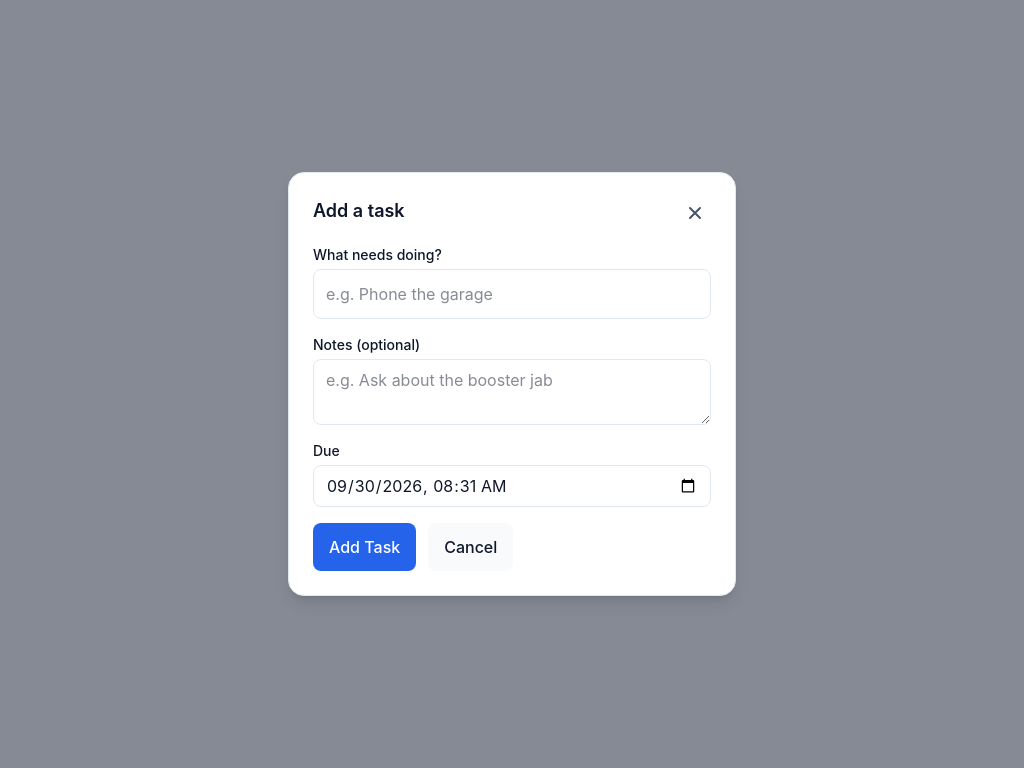
TaskManager › reports a save failure without silently losing what was typed
Expected: the dialog "Add a task" is shown, x1=288 y1=172 x2=736 y2=596
In the field labelled "What needs doing?": (512, 294) x1=313 y1=269 x2=711 y2=319, type "Phone the garage"
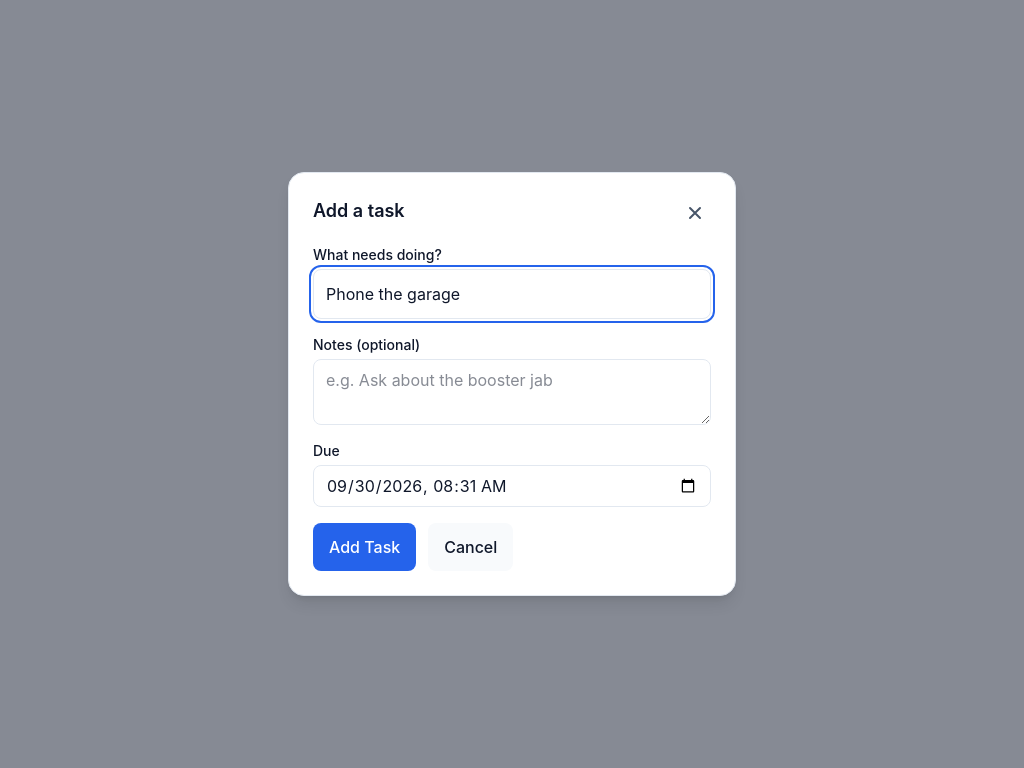
Click the button "Add Task": (365, 547) x1=313 y1=523 x2=416 y2=571
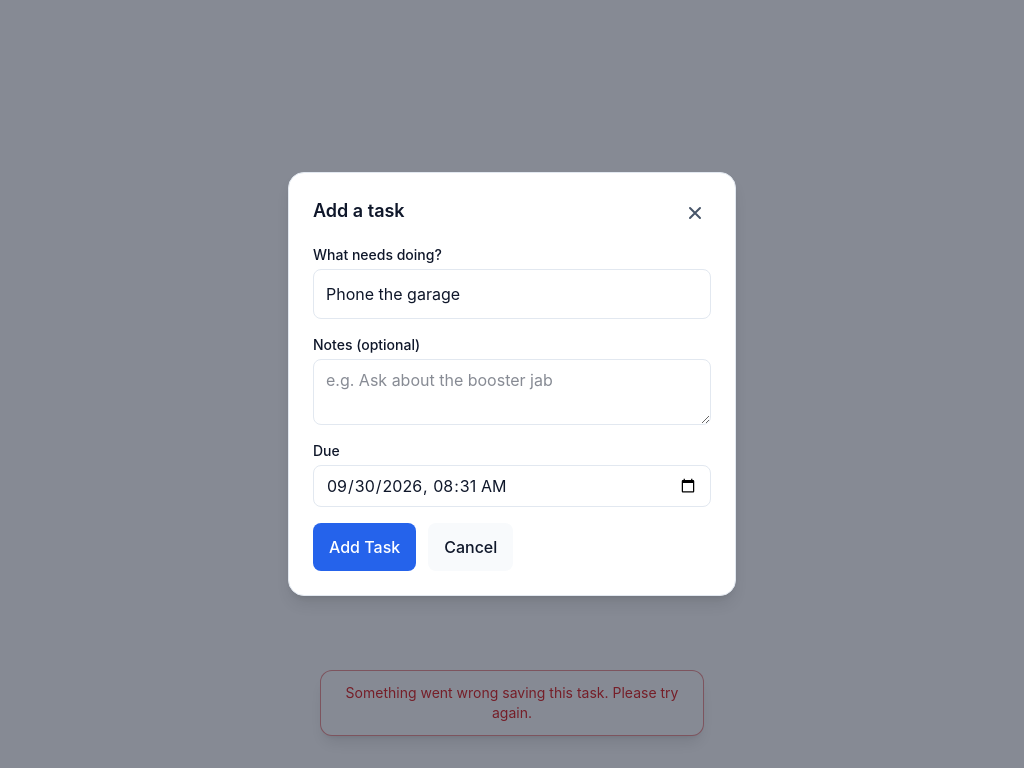
Expected: the dialog "Add a task" is shown, x1=288 y1=172 x2=736 y2=596
Now the message shows "Something went wrong saving", box x1=346 y1=684 x2=678 y2=721
